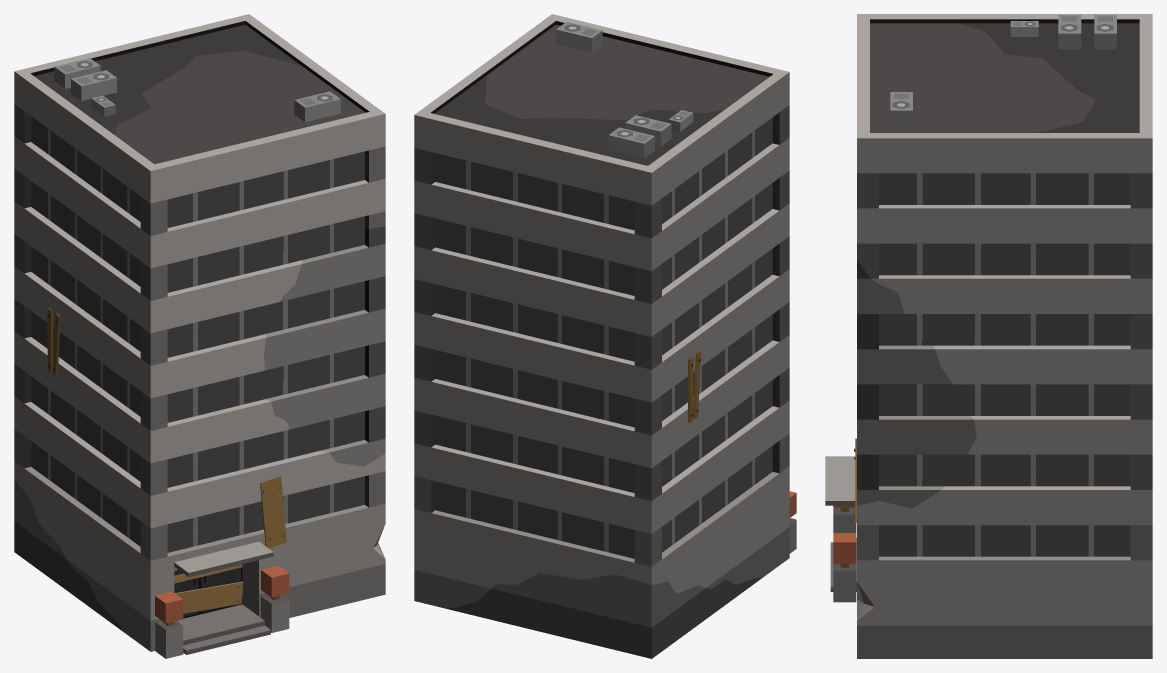
The model's file is SA_Bld_OfficeGrey_03.glb.
3 renders of one model, left to right at view 1: azimuth 30°, elevation 25°; view 2: azimuth 150°, elevation 25°; view 3: azimuth 270°, elevation 25°, orthographic. The views are drawn at different scales.
Visible parts, largest first — view 1: SA_Bld_OfficeGrey_03; view 2: SA_Bld_OfficeGrey_03; view 3: SA_Bld_OfficeGrey_03.
Boxes of the visible parts, bbox=[...] form: SA_Bld_OfficeGrey_03: bbox=[14, 14, 385, 658]; SA_Bld_OfficeGrey_03: bbox=[414, 14, 796, 658]; SA_Bld_OfficeGrey_03: bbox=[825, 14, 1152, 658].
Size of the model in its own units: 5.81 by 11.44 by 6.37.
1 material, 1 textured.
